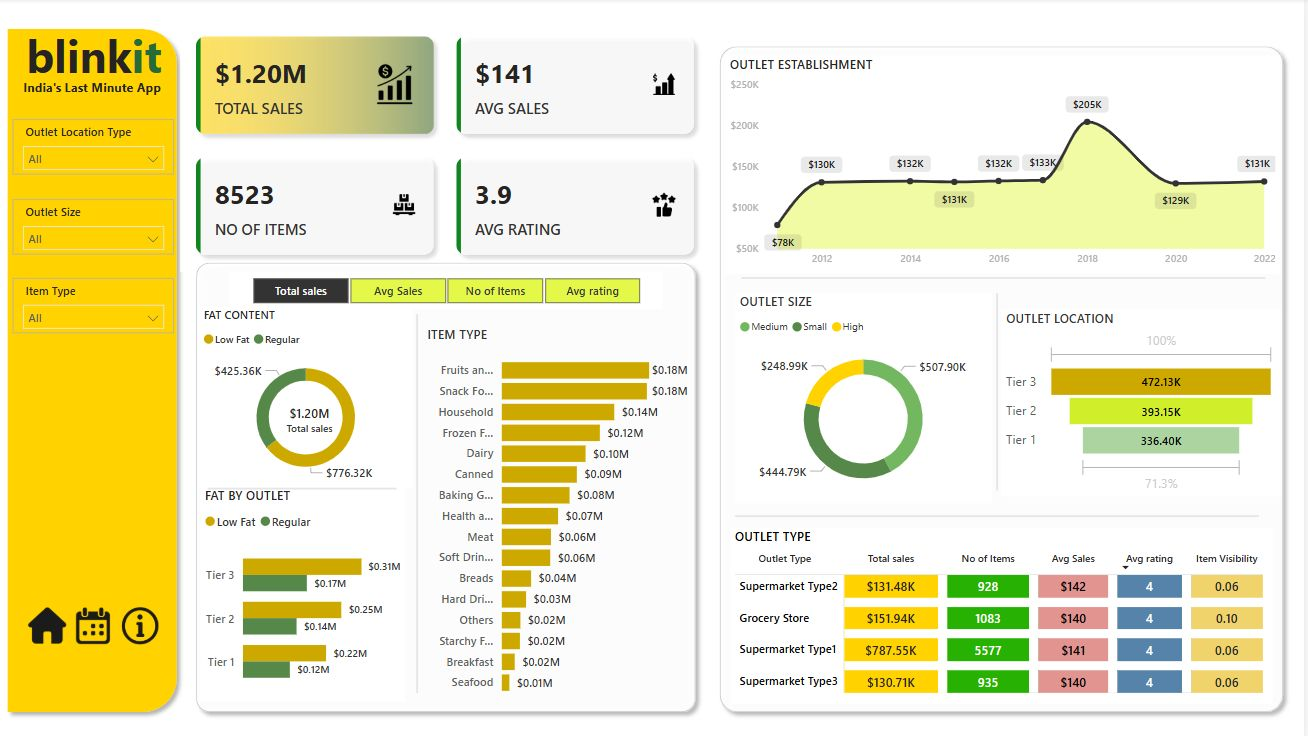

This screenshot's page, from the dashboard's own definition file:
{"tool":"powerbi","page":{"name":"Page 1","canvas":[1400,800],"ordinal":0},"visuals":[{"type":"shape","box":[0,24.1,199.7,750.7],"z":0},{"type":"textbox","box":[9.4,24.1,185,76.4],"z":1000},{"type":"textbox","box":[0,81.8,199.7,37.5],"z":2000},{"type":"cardVisual","fields":{"Data":["BlinkIT Grocery Data.Total sales","BlinkIT Grocery Data.Avg Sales","BlinkIT Grocery Data.No of Items","BlinkIT Grocery Data.Avg rating"]},"box":[194.4,24.1,569.7,269.4],"z":4000},{"type":"shape","box":[202.4,274.8,553.6,500],"z":5000},{"type":"donutChart","title":"FAT CONTENT","fields":{"Y":["BlinkIT Grocery Data.Total sales"],"Category":["BlinkIT Grocery Data.Item Fat Content"]},"box":[214.5,331.1,229.2,194.4],"z":6000},{"type":"slicer","fields":{"Values":["Metrics.Metrics"]},"box":[246.7,293.6,465.1,40.2],"z":7000},{"type":"cardVisual","fields":{"Data":["BlinkIT Grocery Data.Total sales"]},"box":[252,419.6,162.2,64.3],"z":8000},{"type":"clusteredBarChart","title":"FAT BY OUTLET","fields":{"Y":["BlinkIT Grocery Data.Total sales"],"Category":["BlinkIT Grocery Data.Outlet Location Type"],"Series":["BlinkIT Grocery Data.Item Fat Content"]},"box":[215.8,524.1,219.8,230.6],"z":9000},{"type":"shape","box":[223.9,514.7,202.4,22.8],"z":10000},{"type":"shape","box":[442.4,339.1,12.1,406.2],"z":11000},{"type":"barChart","title":"ITEM TYPE","fields":{"Y":["BlinkIT Grocery Data.Total sales"],"Category":["BlinkIT Grocery Data.Item Type"]},"box":[454.4,351.2,289.5,406.2],"z":12000},{"type":"shape","box":[764.1,42.9,622,731.9],"z":13000},{"type":"lineChart","title":"OUTLET ESTABLISHMENT","fields":{"Y":["BlinkIT Grocery Data.Total sales"],"Category":["BlinkIT Grocery Data.Outlet Establishment Year"]},"box":[778.8,61.7,595.2,234.6],"z":14000},{"type":"shape","box":[796.3,288.2,561.7,24.1],"z":15000},{"type":"donutChart","title":"OUTLET SIZE","fields":{"Y":["BlinkIT Grocery Data.Total sales"],"Category":["BlinkIT Grocery Data.Outlet Size"]},"box":[789.5,316.4,274.8,225.2],"z":16000},{"type":"shape","box":[1050.9,316.4,38.9,211.8],"z":17000},{"type":"funnel","title":"OUTLET LOCATION","fields":{"Y":["Sum(BlinkIT Grocery Data.Sales)"],"Category":["BlinkIT Grocery Data.Outlet Location Type"]},"box":[1075.1,333.8,298.9,201.1],"z":18000},{"type":"shape","box":[789.5,524.1,561.7,63],"z":19000},{"type":"pivotTable","title":"OUTLET TYPE","fields":{"Rows":["BlinkIT Grocery Data.Outlet Type"],"Values":["BlinkIT Grocery Data.Total sales","BlinkIT Grocery Data.No of Items","BlinkIT Grocery Data.Avg Sales","BlinkIT Grocery Data.Avg rating","Avg(BlinkIT Grocery Data.Item Visibility)"]},"box":[784.2,568.4,581.8,189],"z":20000},{"type":"slicer","fields":{"Values":["BlinkIT Grocery Data.Outlet Location Type"]},"box":[14.7,130,172.9,59],"z":21000},{"type":"slicer","fields":{"Values":["BlinkIT Grocery Data.Outlet Size"]},"box":[14.7,215.8,172.9,59],"z":22000},{"type":"slicer","fields":{"Values":["BlinkIT Grocery Data.Item Type"]},"box":[14.7,300.3,172.9,59],"z":23000},{"type":"image","box":[20.1,592.5,162.2,162.2],"z":24000}]}

Visuals, with their boxes in screenshot pixels (x1, y1, x2, y2), scaled from the page's 1400x800 canvas onto the 1308x736 screenshot:
shape: [0, 22, 187, 713]
textbox: [9, 22, 182, 92]
textbox: [0, 75, 187, 110]
cardVisual - BlinkIT Grocery Data.Total sales x BlinkIT Grocery Data.Avg Sales: [182, 22, 714, 270]
shape: [189, 253, 706, 713]
"FAT CONTENT" donutChart: [200, 305, 415, 483]
slicer - Metrics.Metrics: [230, 270, 665, 307]
cardVisual - BlinkIT Grocery Data.Total sales: [235, 386, 387, 445]
"FAT BY OUTLET" clusteredBarChart: [202, 482, 407, 694]
shape: [209, 474, 398, 494]
shape: [413, 312, 425, 686]
"ITEM TYPE" barChart: [425, 323, 695, 697]
shape: [714, 39, 1295, 713]
"OUTLET ESTABLISHMENT" lineChart: [728, 57, 1284, 273]
shape: [744, 265, 1269, 287]
"OUTLET SIZE" donutChart: [738, 291, 994, 498]
shape: [982, 291, 1018, 486]
"OUTLET LOCATION" funnel: [1004, 307, 1284, 492]
shape: [738, 482, 1262, 540]
"OUTLET TYPE" pivotTable: [733, 523, 1276, 697]
slicer - BlinkIT Grocery Data.Outlet Location Type: [14, 120, 175, 174]
slicer - BlinkIT Grocery Data.Outlet Size: [14, 199, 175, 253]
slicer - BlinkIT Grocery Data.Item Type: [14, 276, 175, 331]
image: [19, 545, 170, 694]
